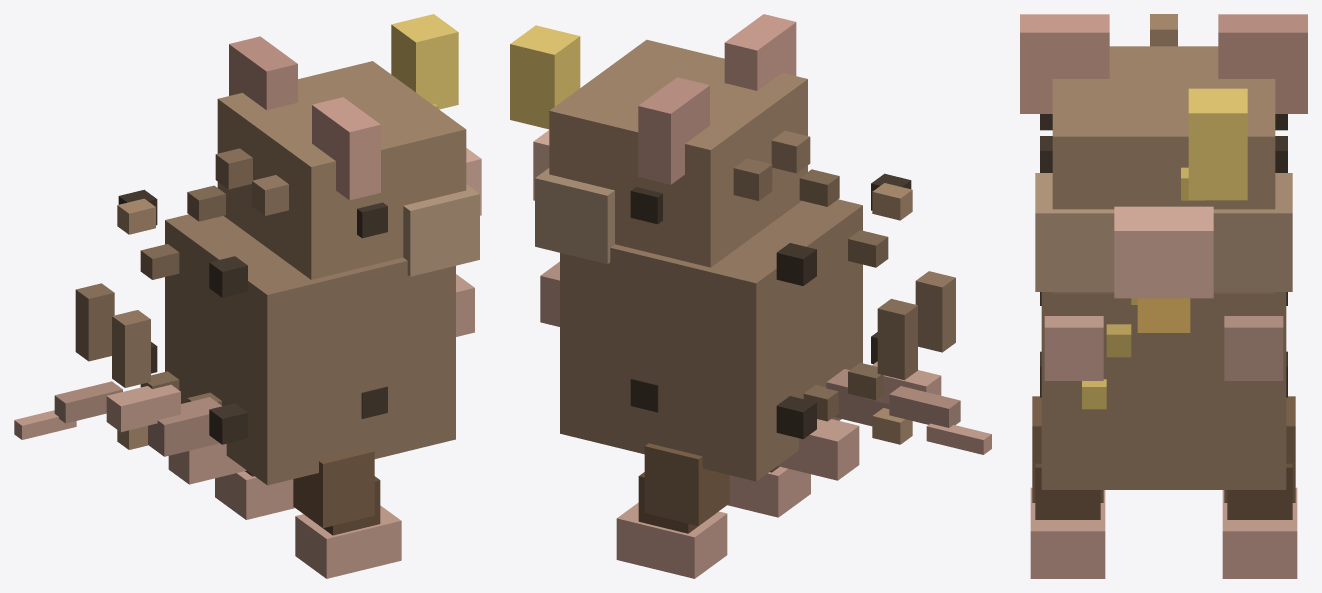
The model's file is mill-vole-pup.glb.
3 renders of one model, left to right at view 1: azimuth 30°, elevation 25°; view 2: azimuth 150°, elevation 25°; view 3: azimuth 270°, elevation 25°, orthographic. The views are drawn at different scales.
Parts seen in each view (by area): view 1: Body, Head, HindPaws, Scales, Tail, Ears, Cheeks, WheatEar, Trim, ForePaws, Snout; view 2: Body, Head, HindPaws, Scales, Ears, Tail, Trim, Cheeks, WheatEar, ForePaws, Snout; view 3: Body, Head, HindPaws, Cheeks, Ears, Snout, ForePaws, WheatEar, WheatStalk, Teeth, Scales, Trim.
Part boxes in pixels (left/top/right/bottom): Body: left=165, top=214, right=455, bottom=485; Head: left=217, top=61, right=466, bottom=279; HindPaws: left=215, top=448, right=401, bottom=578; Scales: left=75, top=148, right=387, bottom=444; Tail: left=14, top=381, right=246, bottom=484; Ears: left=229, top=36, right=380, bottom=200; Cheeks: left=403, top=184, right=479, bottom=276; WheatEar: left=391, top=14, right=458, bottom=109; Trim: left=117, top=185, right=225, bottom=449; ForePaws: left=456, top=274, right=474, bottom=336; Snout: left=466, top=148, right=481, bottom=215; Body: left=560, top=199, right=862, bottom=481; Head: left=549, top=39, right=807, bottom=267; HindPaws: left=616, top=443, right=810, bottom=578; Scales: left=630, top=130, right=955, bottom=439; Ears: left=638, top=14, right=796, bottom=184; Tail: left=778, top=361, right=991, bottom=480; Trim: left=799, top=169, right=912, bottom=444; Cheeks: left=535, top=168, right=614, bottom=264; WheatEar: left=510, top=25, right=580, bottom=129; ForePaws: left=540, top=261, right=559, bottom=326; Snout: left=533, top=130, right=549, bottom=200; Body: left=1041, top=292, right=1286, bottom=489; Head: left=1052, top=46, right=1275, bottom=293; HindPaws: left=1030, top=396, right=1297, bottom=578; Cheeks: left=1035, top=173, right=1292, bottom=291; Ears: left=1020, top=14, right=1307, bottom=113; Snout: left=1114, top=206, right=1213, bottom=298; ForePaws: left=1044, top=316, right=1283, bottom=380; WheatEar: left=1188, top=88, right=1247, bottom=200; WheatStalk: left=1082, top=167, right=1205, bottom=409; Teeth: left=1137, top=298, right=1190, bottom=332; Scales: left=1040, top=114, right=1287, bottom=397; Trim: left=1150, top=14, right=1177, bottom=46.
Bounding box in the file's own units: 3.89 × 3.83 × 1.86.
